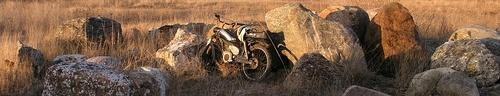motorbike: (201, 15, 278, 82)
